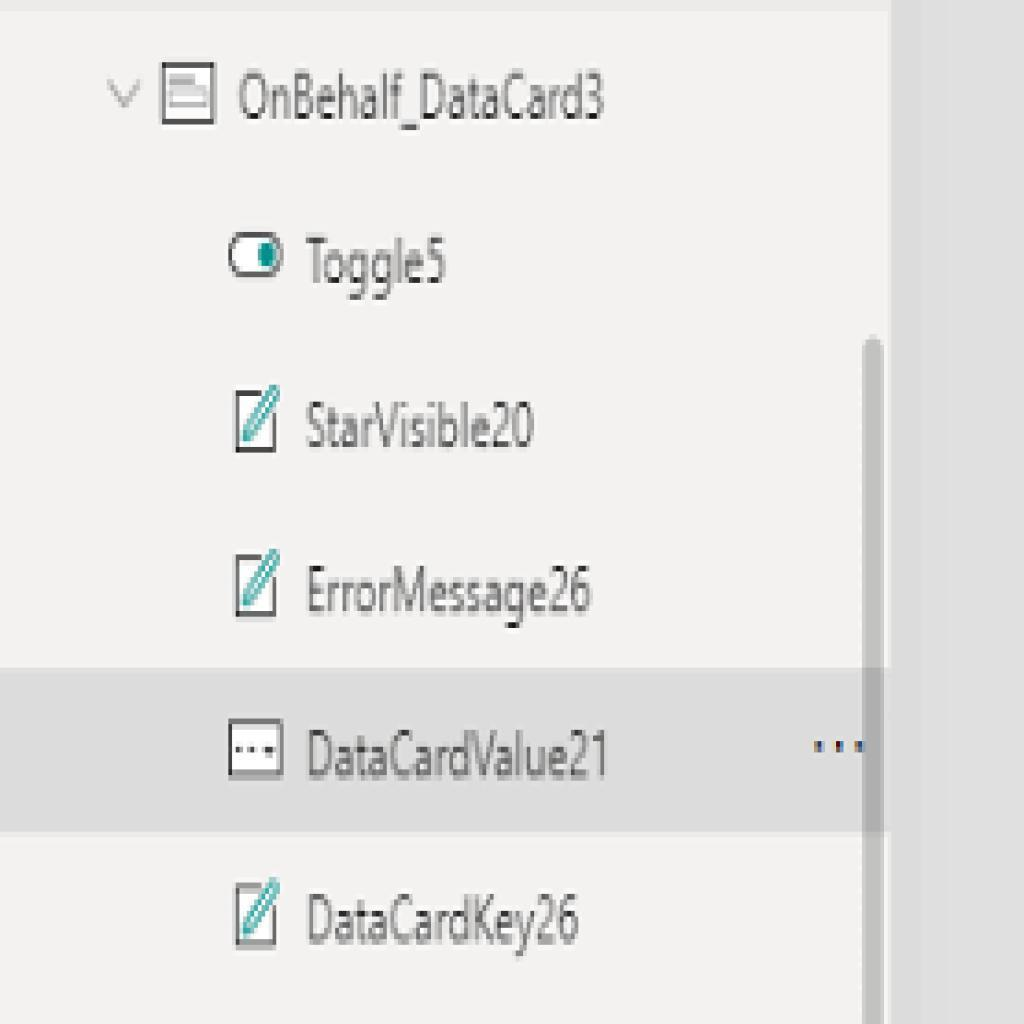icon: (231, 550, 288, 629), (225, 383, 284, 457), (235, 877, 288, 951), (228, 722, 288, 776), (807, 722, 862, 773)
switch: (224, 225, 291, 284)
